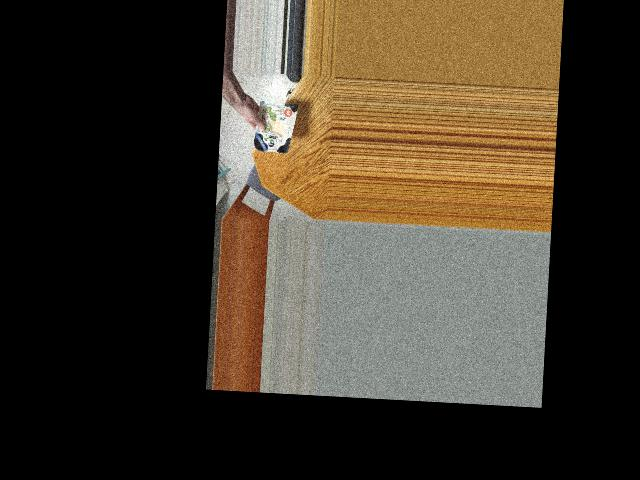cheese: (250, 94, 298, 160)
